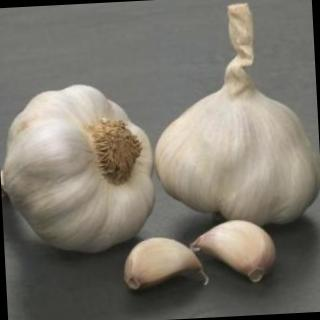Bawang Putih: (1, 81, 160, 258), (150, 84, 320, 233), (191, 220, 277, 288), (122, 235, 212, 292)
